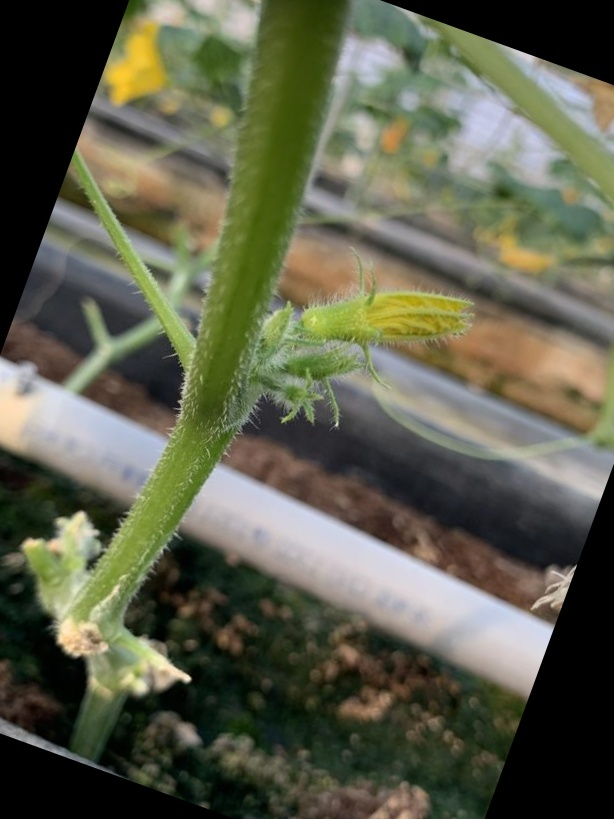bud: (293, 281, 481, 356)
